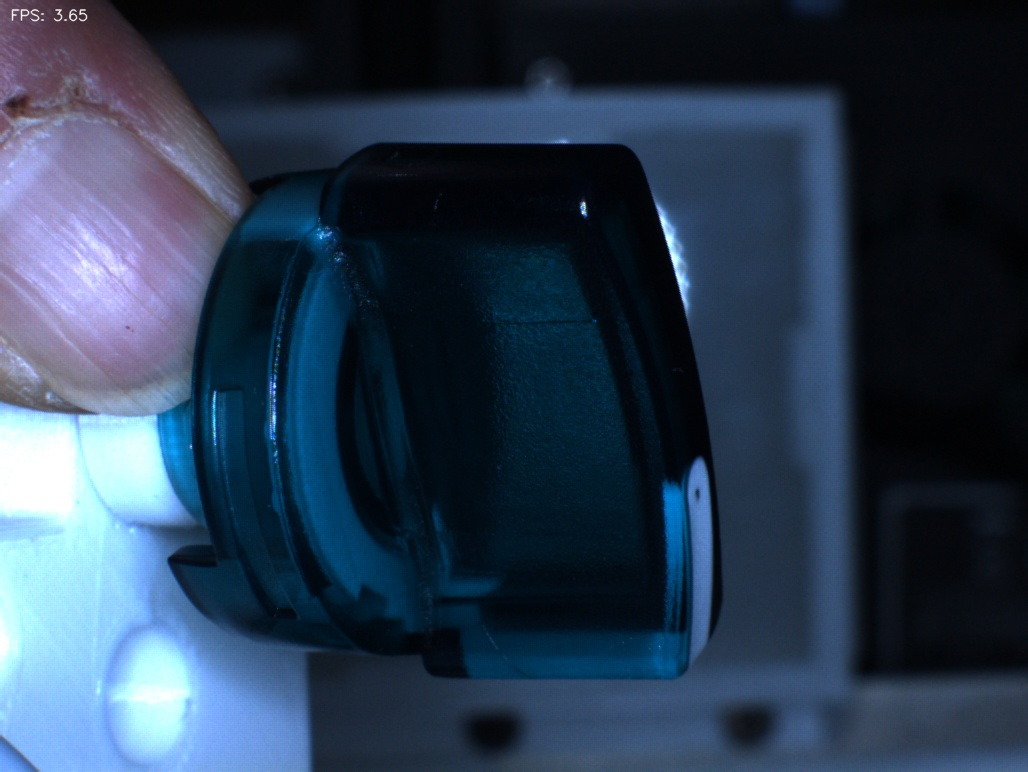PointNoir: (643, 429, 747, 551)
